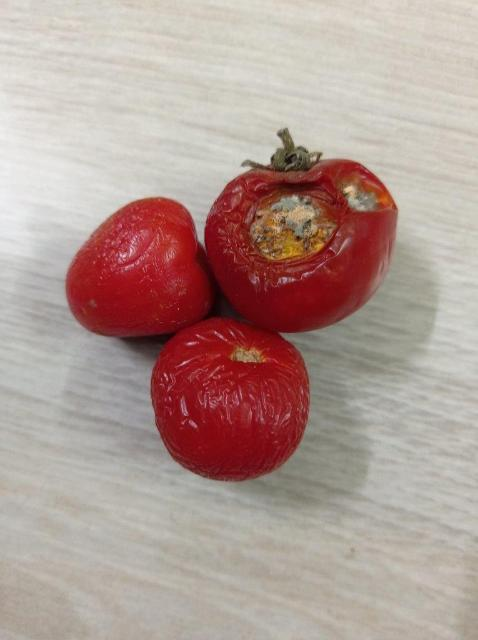defect: (204, 121, 402, 336), (148, 316, 314, 483)
